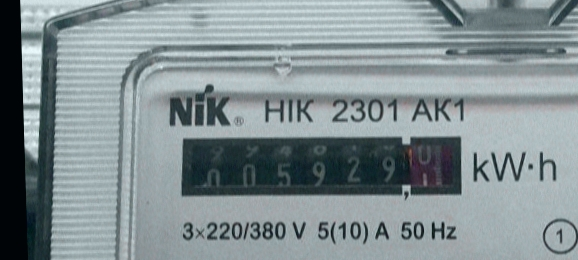0: (240, 160, 260, 189), (203, 163, 225, 187), (416, 142, 435, 166)
2: (344, 152, 364, 186)
5: (275, 159, 294, 188)
9: (308, 157, 330, 188), (380, 152, 400, 185), (208, 143, 226, 162)
screen: (174, 124, 471, 212)
